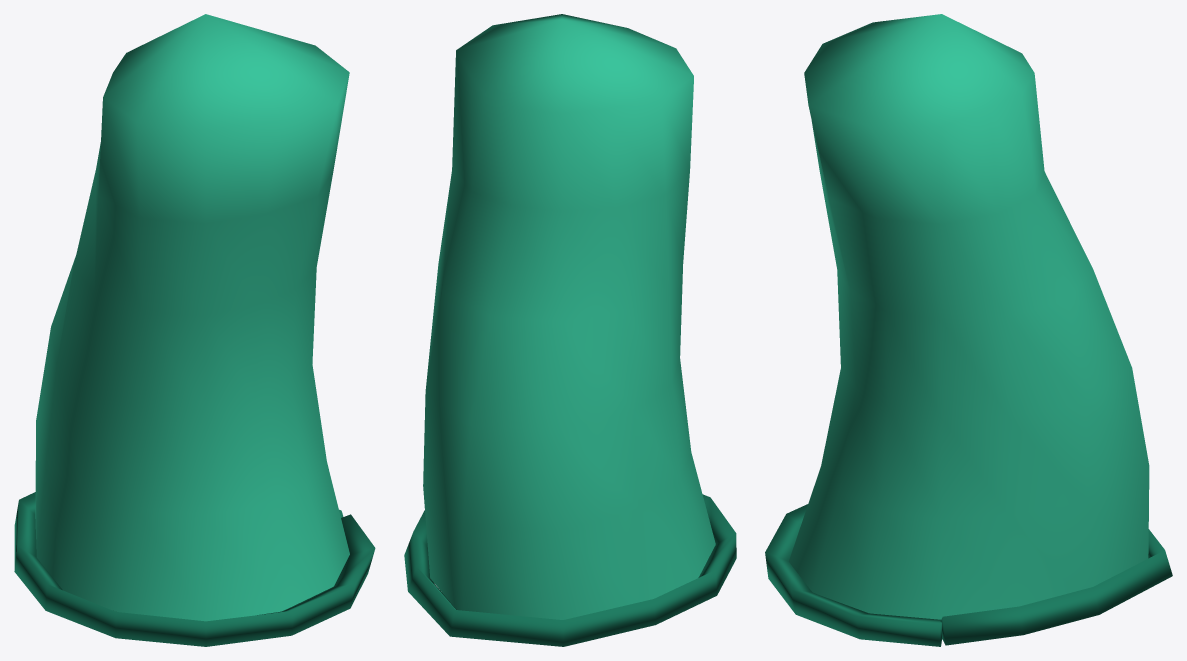
File: mythril_armor_boot.L.glb
3 views of the same model, side by side, from view 1: azimuth 30°, elevation 25°; view 2: azimuth 150°, elevation 25°; view 3: azimuth 270°, elevation 25° (orthographic). The views are drawn at different scales.
Parts seen in each view (by area): view 1: mythril_armor_boot.L; view 2: mythril_armor_boot.L; view 3: mythril_armor_boot.L.
Boxes of the visible parts, x1,y1,x2,y2 form: mythril_armor_boot.L: (14,14,375,646); mythril_armor_boot.L: (404,14,736,646); mythril_armor_boot.L: (765,14,1172,646).
Size of the model in its own units: 0.1684 by 0.2958 by 0.1934.
